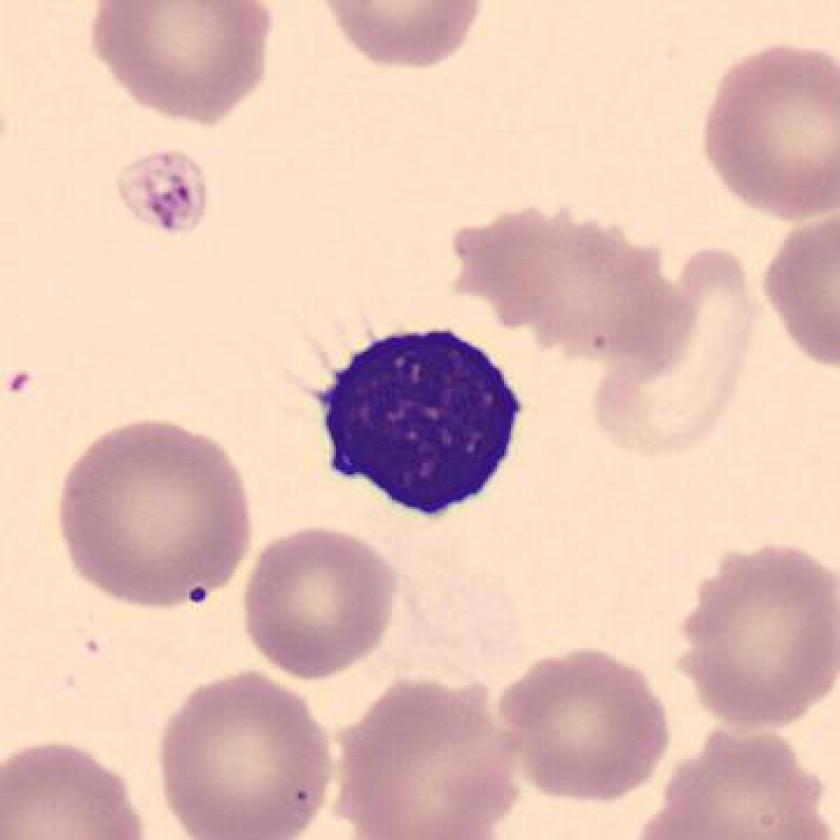lymphocyte: (300, 300, 542, 536)
